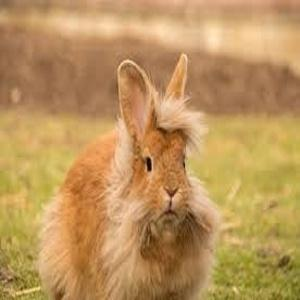rabbit: (37, 55, 224, 300)
